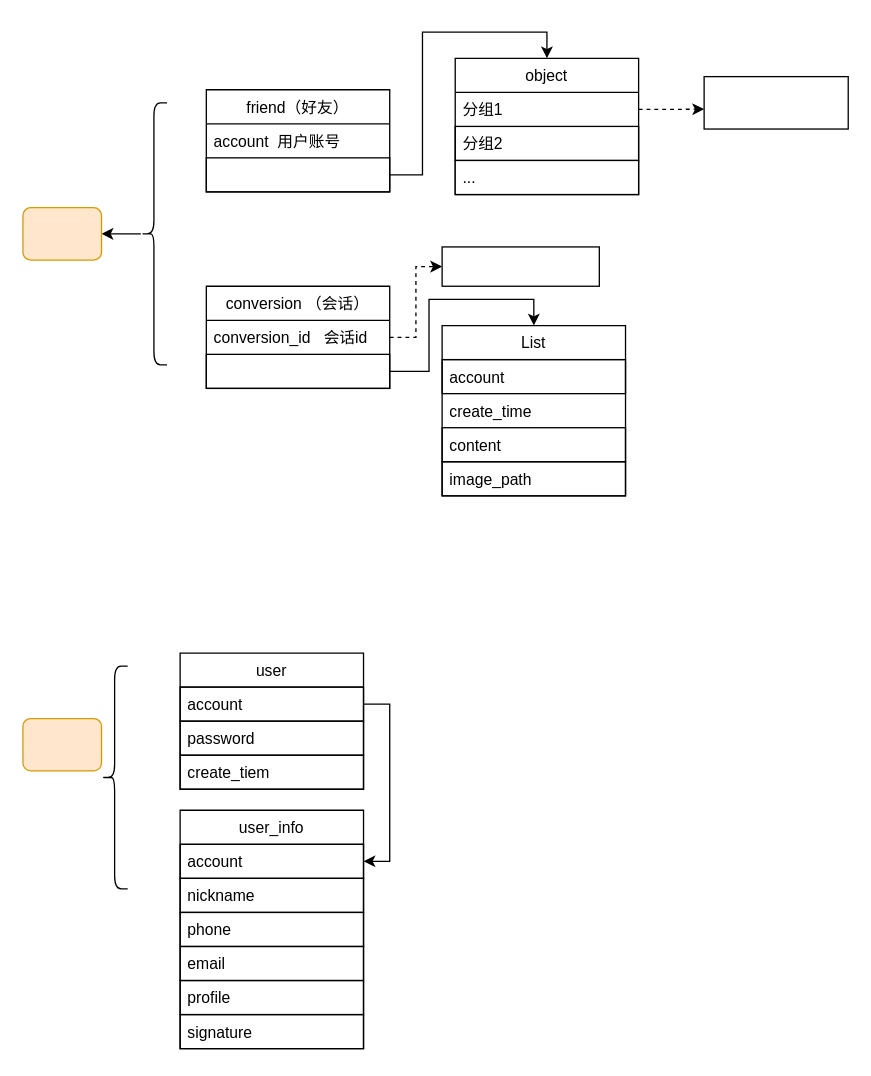
Image size: 871x1076. Some labels were removed from this diagram. The centre of each missing label's shape, as x and y in pixels:
groups 用户分组: the point at 297,174
message: the point at 297,370
Mysql: the point at 62,744
Redis: the point at 62,233
会话id根据两个会话用户id生成: the point at 520,266
存放相应分组中的用户账号: the point at 775,102
